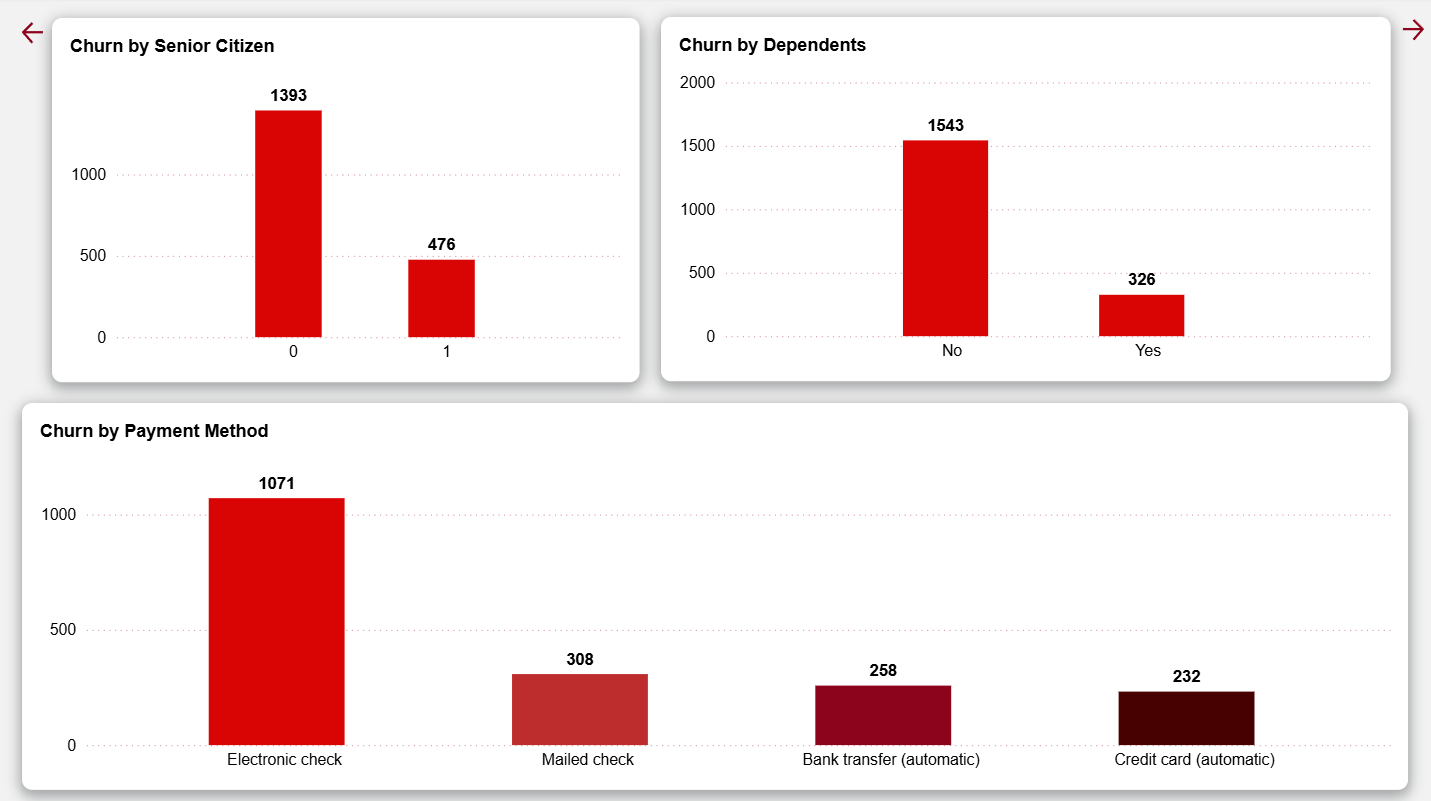

Layout of this report page (visuals, bound fields, positions):
{"tool":"powerbi","page":{"name":"Customer Profile & Payment ","canvas":[1280,720],"ordinal":3},"visuals":[{"type":"clusteredColumnChart","title":"Churn by Senior Citizen","fields":{"Y":["measures table.no. churn cus"],"Category":["data.SeniorCitizen"]},"box":[48,19,521,323],"z":0},{"type":"clusteredColumnChart","title":"Churn by Payment Method","fields":{"Y":["measures table.no. churn cus"],"Category":["data.PaymentMethod"]},"box":[21.4,359.9,1229.4,343.3],"z":1000},{"type":"clusteredColumnChart","title":"Churn by Dependents","fields":{"Y":["measures table.no. churn cus"],"Category":["data.Dependents"]},"box":[588,18,647,323],"z":2000},{"type":"actionButton","box":[6.8,8.8,48.6,46.7],"z":3000},{"type":"actionButton","box":[1232.3,6.8,43.8,44.7],"z":4000}]}

Visuals, with their boxes in screenshot pixels (x1, y1, x2, y2), scaled from the page's 1280x720 canvas onto the 1431x801 screenshot:
"Churn by Senior Citizen" clusteredColumnChart: detection(54, 21, 636, 380)
"Churn by Payment Method" clusteredColumnChart: detection(24, 400, 1398, 782)
"Churn by Dependents" clusteredColumnChart: detection(657, 20, 1381, 379)
actionButton: detection(8, 10, 62, 62)
actionButton: detection(1378, 8, 1427, 57)
